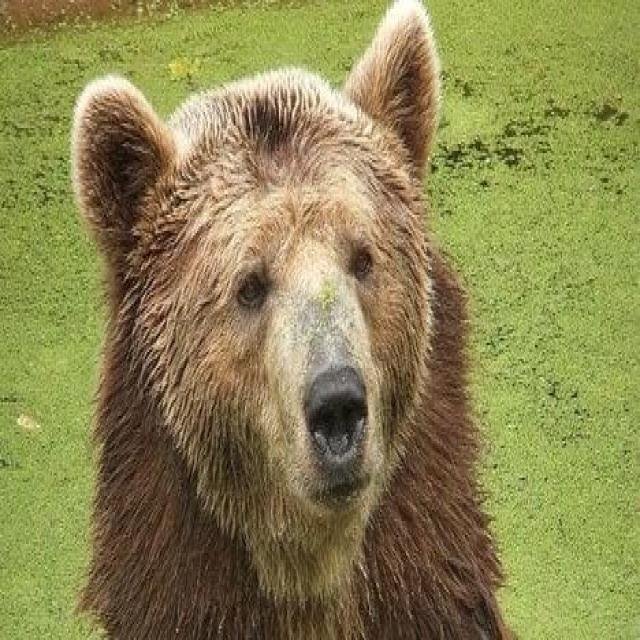Bear: (68, 0, 518, 640)
